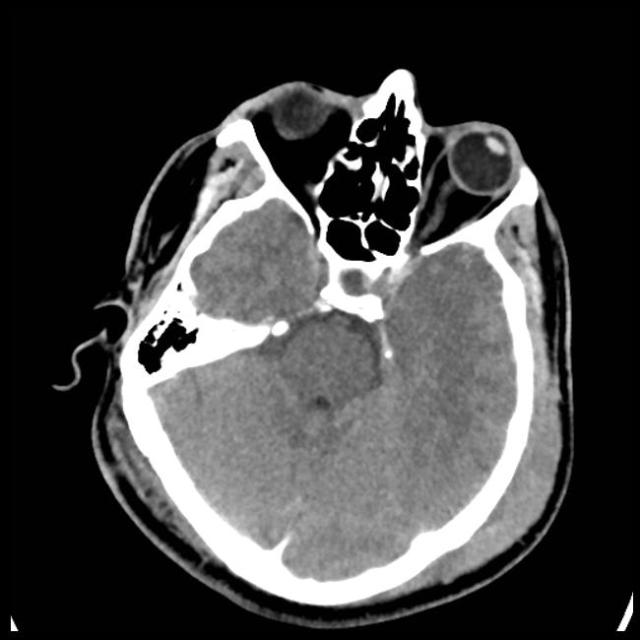lesion: (69, 66, 580, 623)
